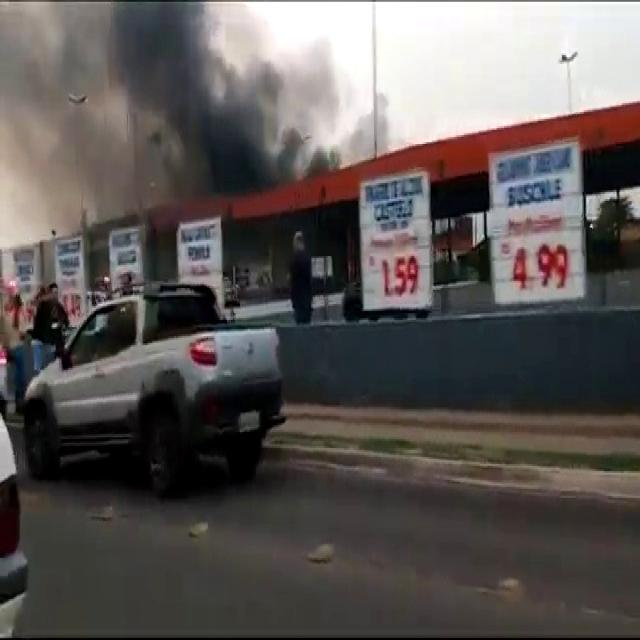Smoke: (0, 0, 315, 203)
